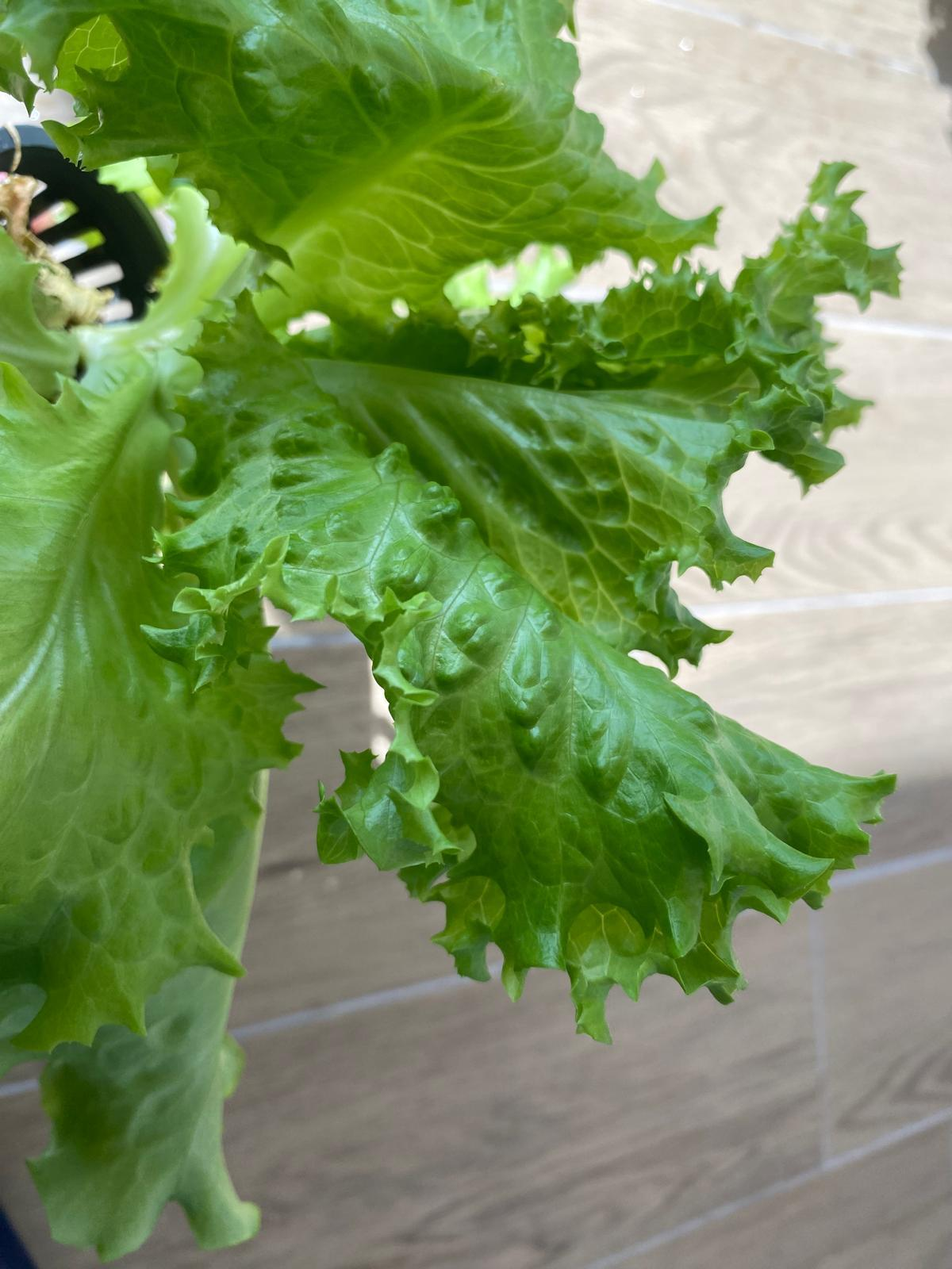Healthy: (0, 1, 905, 1269)
